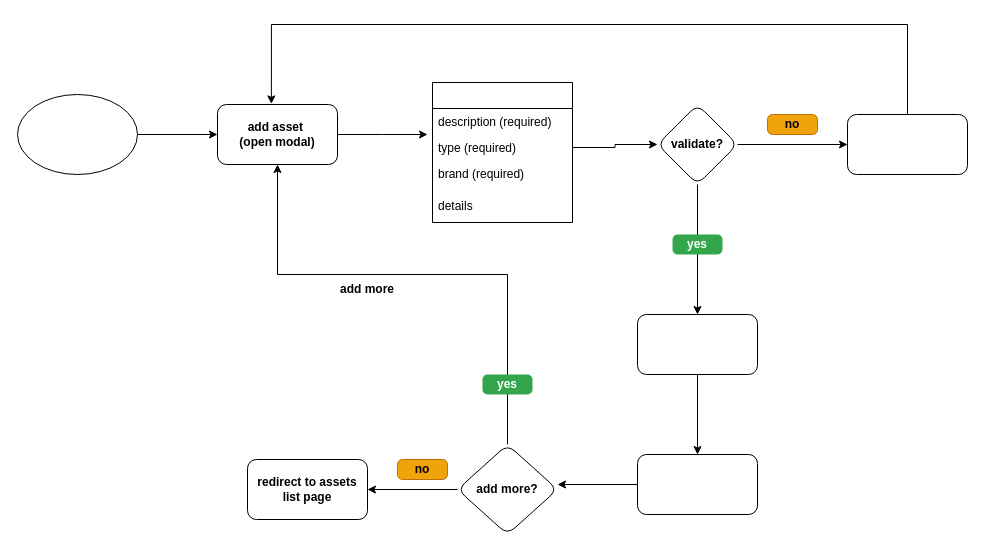
The diagram is 985 pixels wide and 552 high, and some of its shapes have lost their labels. Each missing label, with the box of its shape:
alert "failed, preencher required": (846, 114, 968, 174)
INPUTS: (432, 82, 572, 222)
insert asset into database.assets: (636, 314, 758, 374)
message "success": (636, 454, 758, 514)
